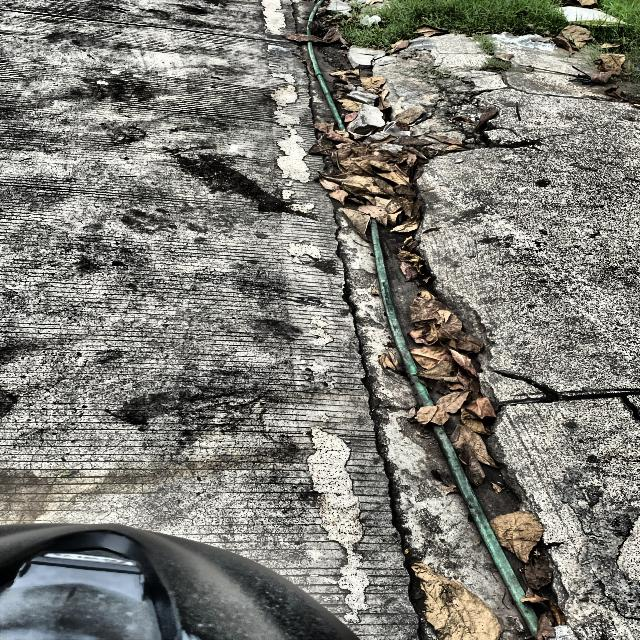no_or_faded_road_markings: (272, 71, 402, 624)
